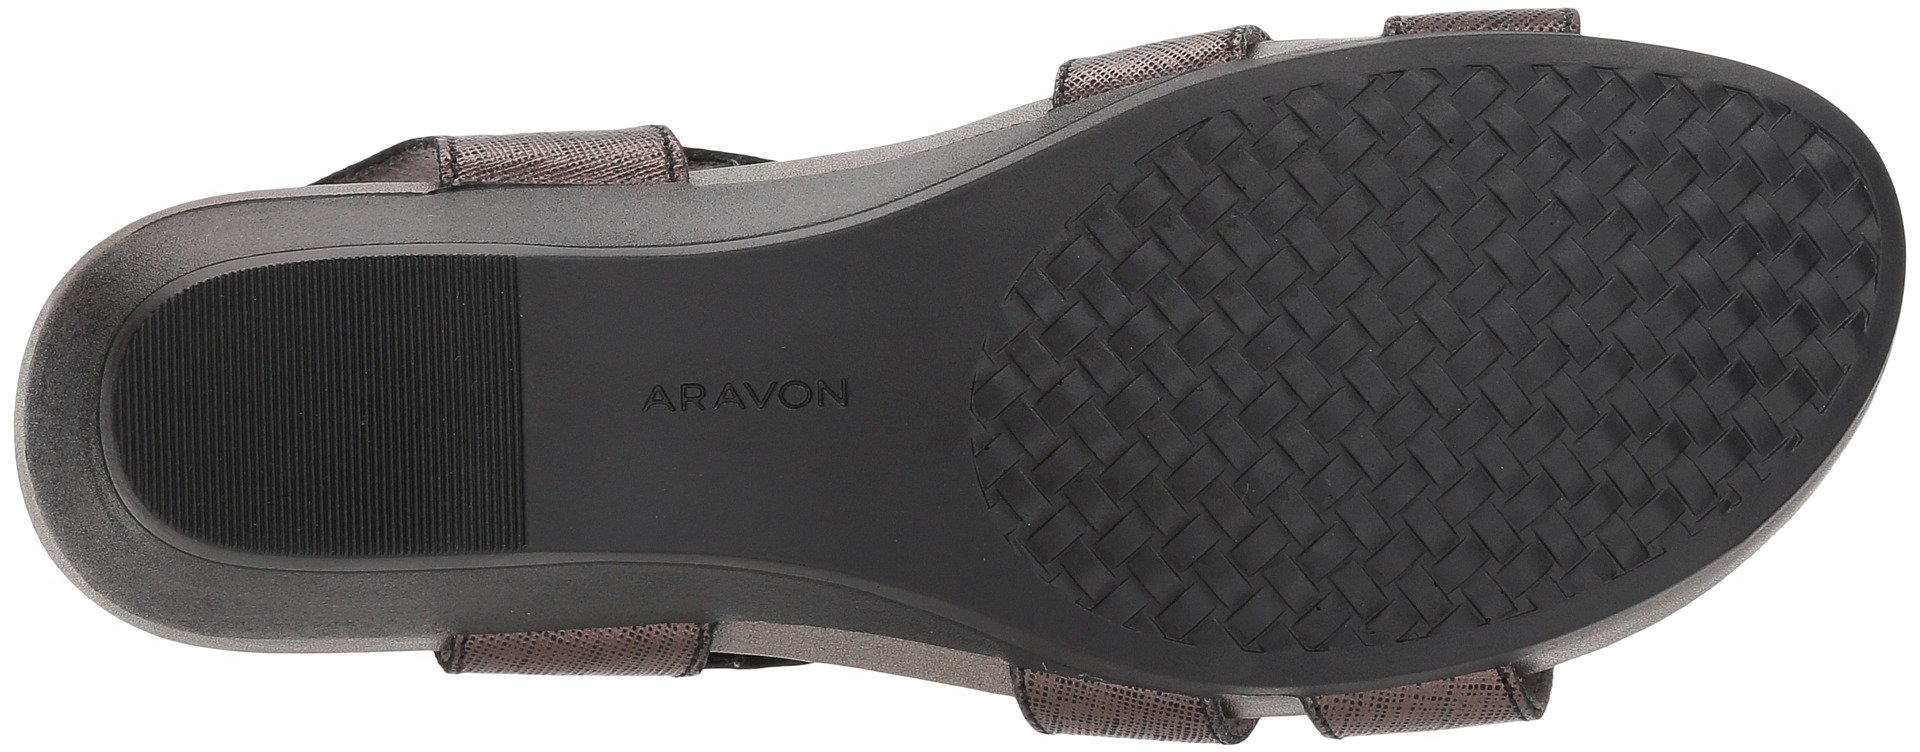line: (217, 289, 467, 536)
quad: (1020, 287, 1293, 530), (1302, 97, 1487, 280), (1298, 287, 1493, 461), (1498, 82, 1674, 271), (1500, 277, 1673, 447), (1296, 465, 1476, 628), (1681, 141, 1839, 285)
text: (643, 344, 737, 448), (746, 348, 844, 445)
